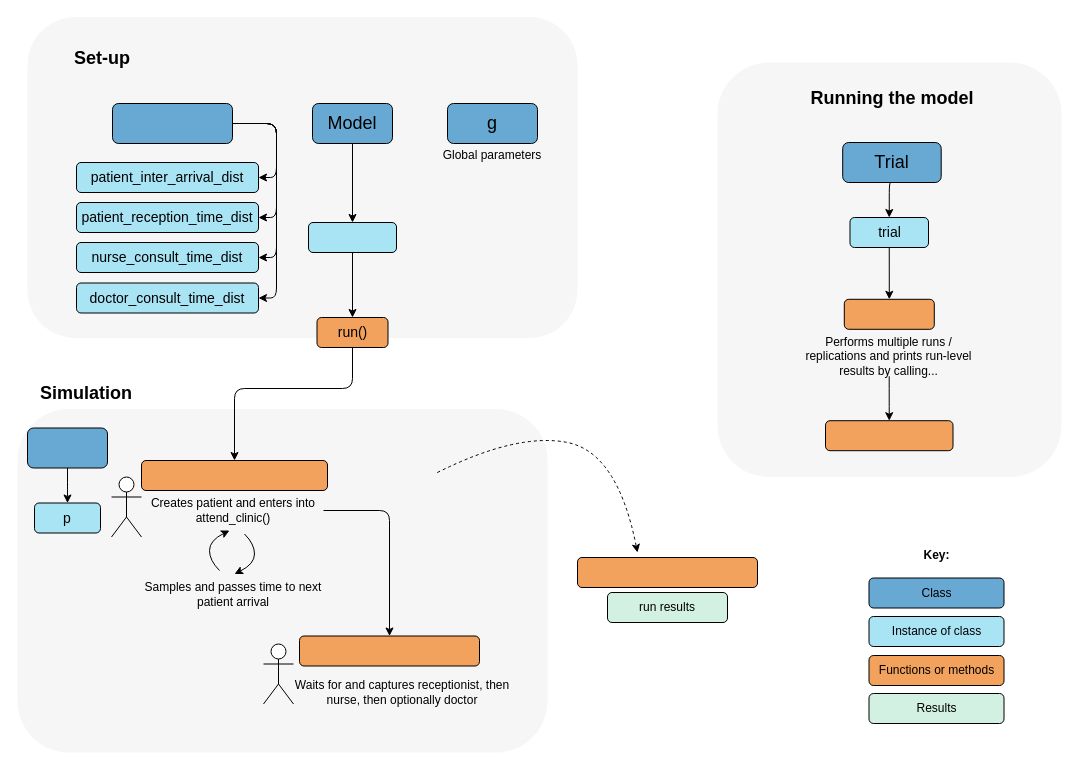
This 1078x770 diagram has some shape labels left out. Here are the shapes that lost their labels. From the top down, the box of each, then its label:
(112, 102, 232, 144): Exponential
(308, 222, 396, 252): my_model
(843, 298, 934, 329): run_trial()
(26, 427, 108, 468): Patient
(824, 420, 953, 451): print_trial_results()
(140, 460, 328, 490): generator_patient_arrivals()
(576, 556, 758, 588): calculate_run_results()
(298, 635, 480, 666): attend_clinic()
